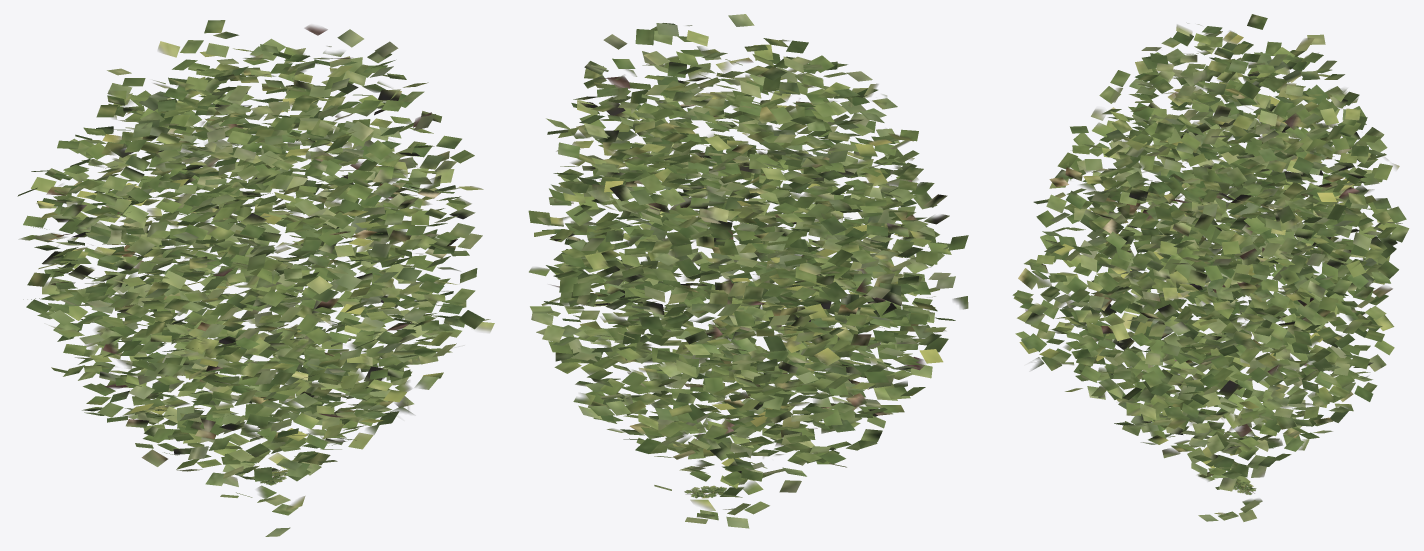
Rendered from tree96.glb.
3 views of the same model, side by side, from view 1: azimuth 30°, elevation 25°; view 2: azimuth 150°, elevation 25°; view 3: azimuth 270°, elevation 25° (orthographic). The views are drawn at different scales.
Parts seen in each view (by area): view 1: Cube.001; view 2: Cube.001; view 3: Cube.001.
Part boxes in pixels (<box>): Cube.001: <box>17,20,494,536</box>; Cube.001: <box>528,14,968,528</box>; Cube.001: <box>1012,14,1409,521</box>.
Size of the model in its own units: 13.74 by 14.47 by 11.55.
Materials: 1 (1 with a texture image).
